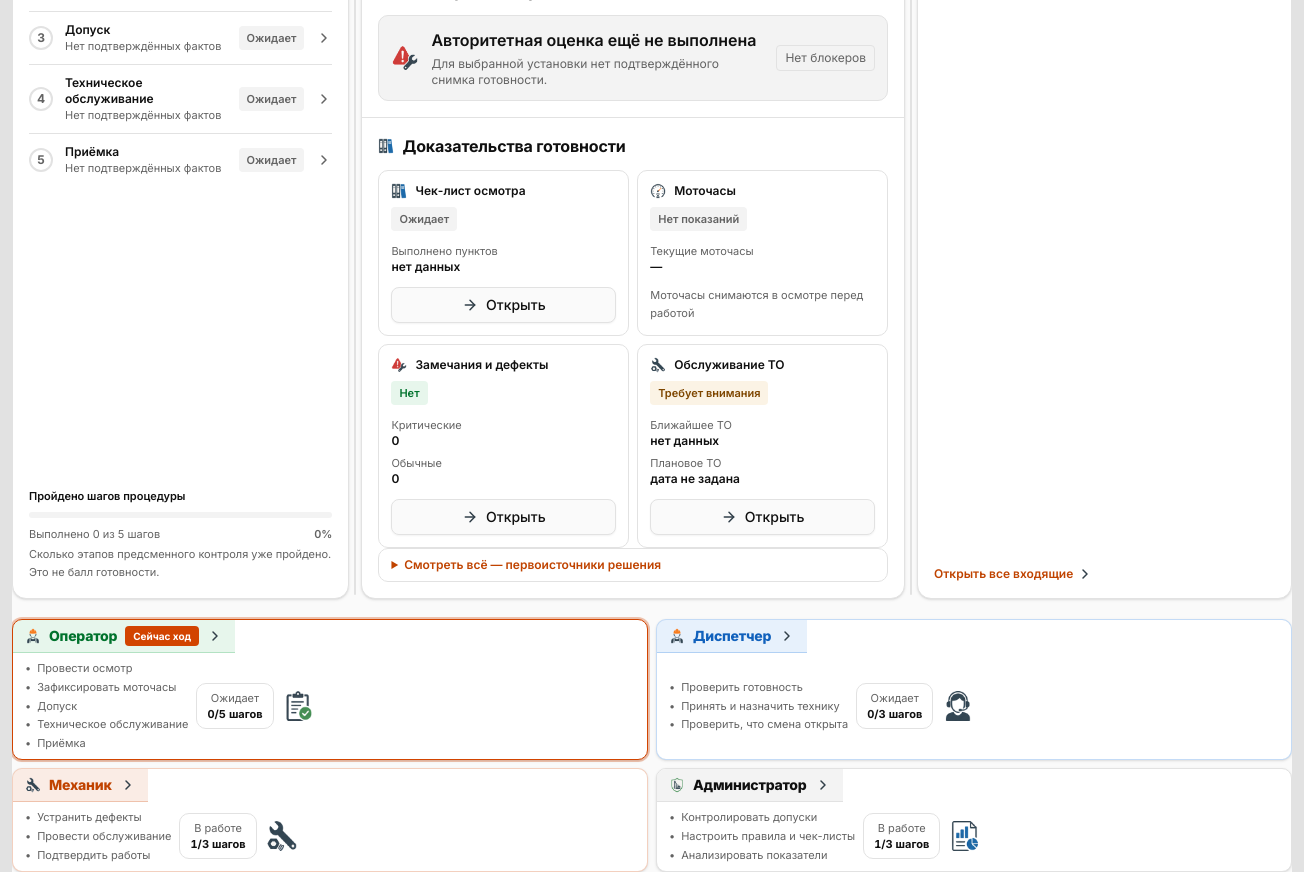
Test case: Шаги ролей: тупики и ложные «выполнено» (W66) › механик: с загруженным пустым журналом «Подтвердить работы» — выполнено
The width and height of the screenshot is (1304, 872).
(page scrolled)
Click the button with aria-label "Механик: что делать сейчас" at (80, 786), box [13,769,647,871]
(page scrolled)
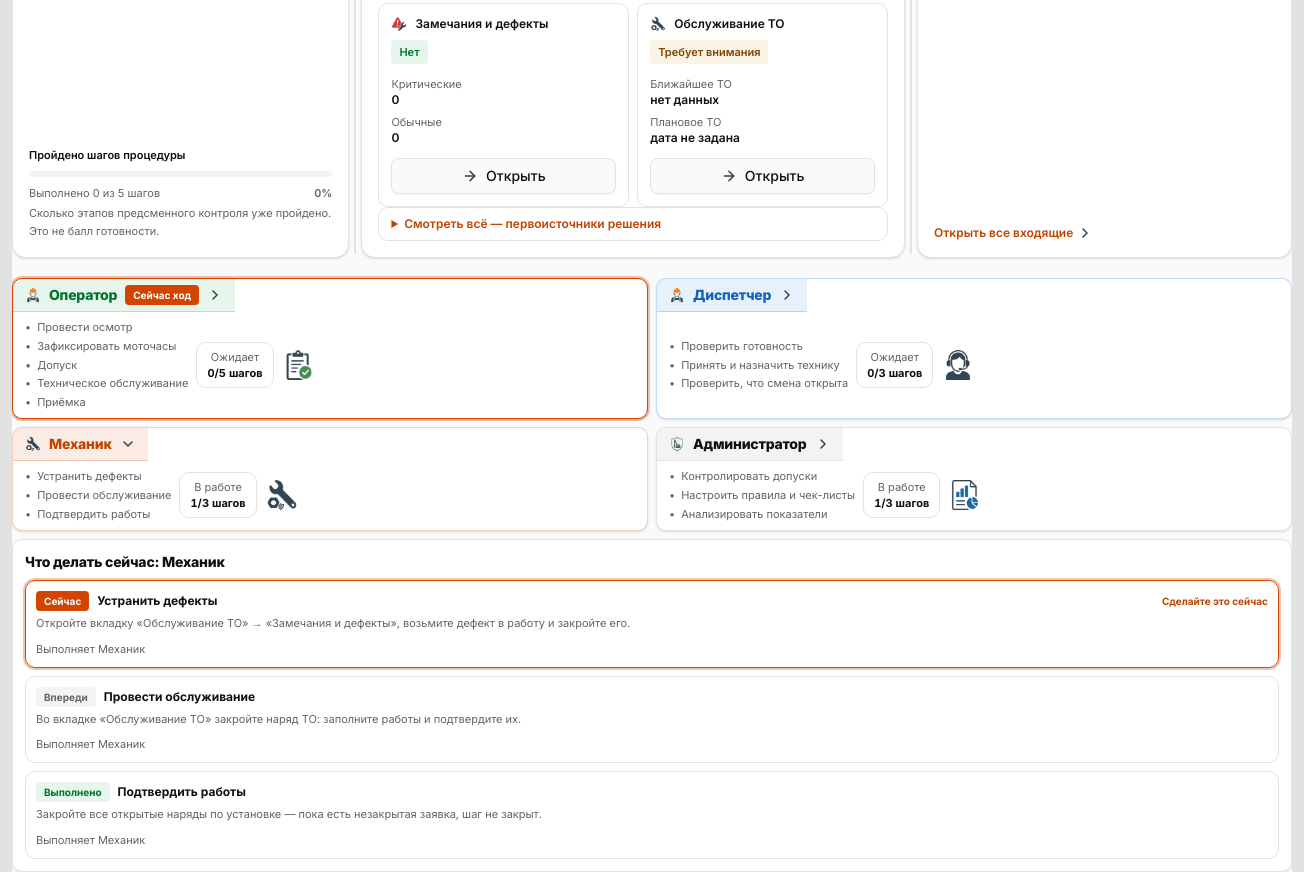
Expected: the text "Выполнено" is shown, [36,782,110,802]
